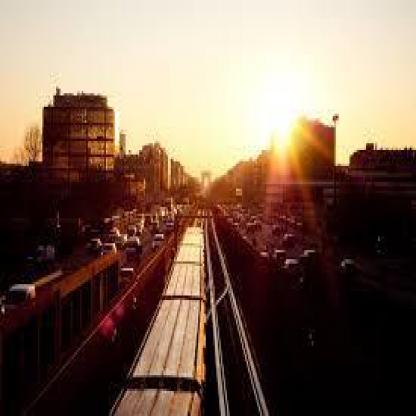other: (226, 46, 330, 170), (100, 91, 138, 158)
